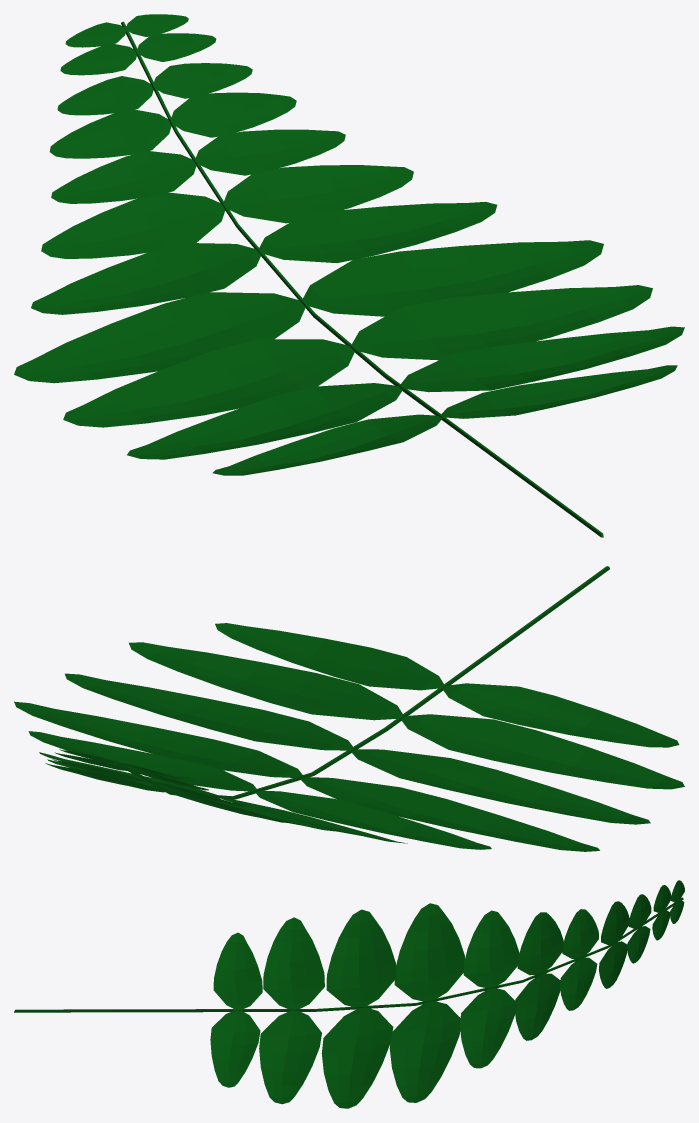
File: Plant3.3.fbx
3 views of the same model, one above another, from view 1: azimuth 30°, elevation 25°; view 2: azimuth 150°, elevation 25°; view 3: azimuth 270°, elevation 25° (orthographic). The views are drawn at different scales.
Parts seen in each view (by area): view 1: Plant3; view 2: Plant3; view 3: Plant3.
Part boxes in pixels (x1,y1,x2,y2): Plant3: (14,14,684,537); Plant3: (14,566,684,851); Plant3: (14,880,684,1108).
Size of the model in its own units: 4051 by 1158 by 5825.
